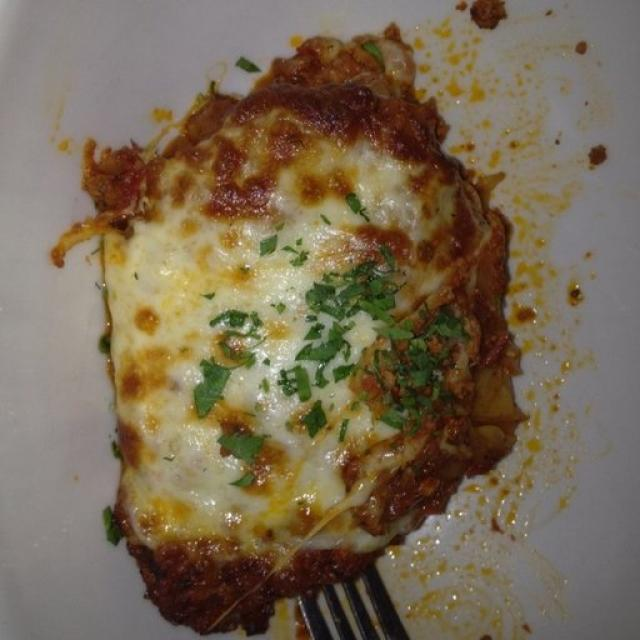Lasagna: (66, 54, 576, 599)
